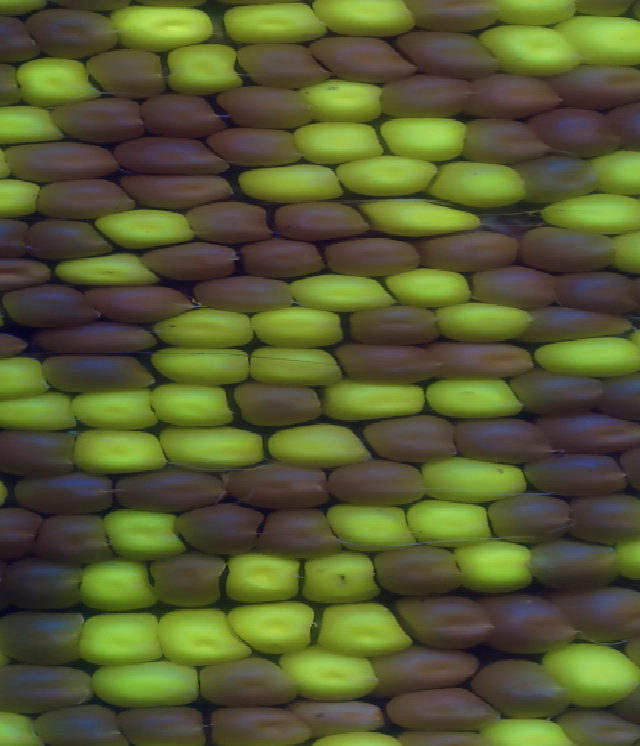fluorescent: (279, 640, 385, 703), (259, 421, 387, 472), (479, 21, 587, 80), (312, 599, 418, 658), (357, 193, 489, 240), (86, 661, 210, 709), (151, 422, 269, 471), (549, 641, 640, 704), (155, 602, 255, 659), (419, 453, 533, 501), (239, 345, 349, 391), (433, 157, 525, 212), (226, 600, 321, 653), (76, 608, 167, 663), (535, 331, 640, 378), (107, 4, 219, 48), (337, 151, 439, 199), (383, 114, 477, 165), (321, 380, 435, 422), (300, 556, 385, 611), (105, 506, 189, 560), (251, 306, 351, 351), (222, 3, 337, 42), (406, 497, 497, 546), (222, 552, 303, 607), (74, 426, 173, 471), (290, 117, 386, 163), (67, 388, 160, 435), (283, 273, 397, 311), (152, 309, 255, 351), (93, 205, 196, 247), (455, 541, 535, 595), (305, 1, 425, 37), (238, 164, 349, 202), (53, 253, 166, 290), (326, 505, 423, 548), (435, 304, 536, 345), (143, 382, 237, 426), (147, 347, 261, 383), (376, 266, 477, 306), (294, 80, 389, 122), (557, 15, 640, 63), (167, 43, 243, 95), (537, 191, 640, 229), (83, 559, 157, 611), (18, 59, 98, 107), (0, 389, 80, 434), (430, 381, 527, 416), (478, 717, 570, 746), (0, 103, 64, 143), (0, 351, 52, 400), (500, 1, 581, 26), (597, 151, 640, 193), (0, 177, 43, 214), (607, 527, 640, 575), (0, 710, 40, 746), (0, 1, 58, 16)
nonfluorescent: (465, 653, 575, 716), (481, 585, 578, 656), (108, 165, 242, 211), (365, 542, 477, 594), (393, 592, 498, 647), (453, 413, 557, 466), (0, 606, 91, 666), (373, 647, 489, 694), (118, 464, 231, 512), (227, 459, 335, 509), (328, 461, 438, 510), (10, 470, 122, 518), (0, 553, 86, 615), (238, 231, 333, 287), (141, 551, 235, 607), (523, 447, 628, 497), (196, 270, 312, 315), (233, 381, 335, 432), (397, 27, 505, 75), (25, 7, 121, 61), (485, 491, 579, 546), (525, 540, 628, 590), (192, 660, 308, 704), (383, 689, 504, 731), (467, 65, 561, 119), (43, 354, 160, 397), (33, 174, 140, 221), (555, 581, 640, 640), (114, 140, 242, 179), (518, 299, 636, 341), (0, 284, 105, 331), (314, 36, 416, 84), (322, 234, 432, 278), (531, 106, 629, 155), (259, 506, 346, 561), (87, 44, 172, 100), (80, 274, 188, 318), (36, 511, 115, 571), (175, 503, 266, 555), (336, 339, 441, 384), (0, 664, 99, 711), (363, 414, 470, 457), (27, 319, 158, 354), (516, 226, 620, 270), (19, 212, 112, 261), (535, 409, 640, 452), (218, 84, 316, 130), (204, 705, 309, 746), (51, 97, 148, 141), (0, 141, 118, 177), (205, 125, 308, 165), (142, 241, 245, 281), (0, 423, 82, 473), (566, 487, 640, 542), (515, 152, 598, 201), (382, 76, 473, 120), (179, 200, 270, 244), (508, 371, 608, 411), (423, 234, 522, 274), (546, 270, 640, 312), (272, 200, 368, 241), (232, 44, 330, 84), (142, 91, 229, 136), (292, 694, 390, 733), (38, 706, 133, 746), (462, 119, 552, 161), (426, 338, 531, 374), (116, 707, 209, 746), (558, 64, 640, 107), (348, 306, 443, 343), (402, 1, 504, 34), (554, 707, 640, 746), (470, 266, 555, 304), (0, 509, 46, 559), (0, 254, 53, 292), (0, 16, 41, 64), (601, 374, 640, 421), (608, 99, 640, 147), (0, 214, 35, 257)
